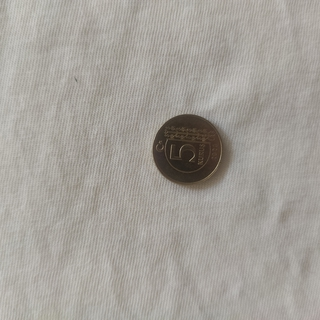5KURUS: (150, 112, 224, 186)
